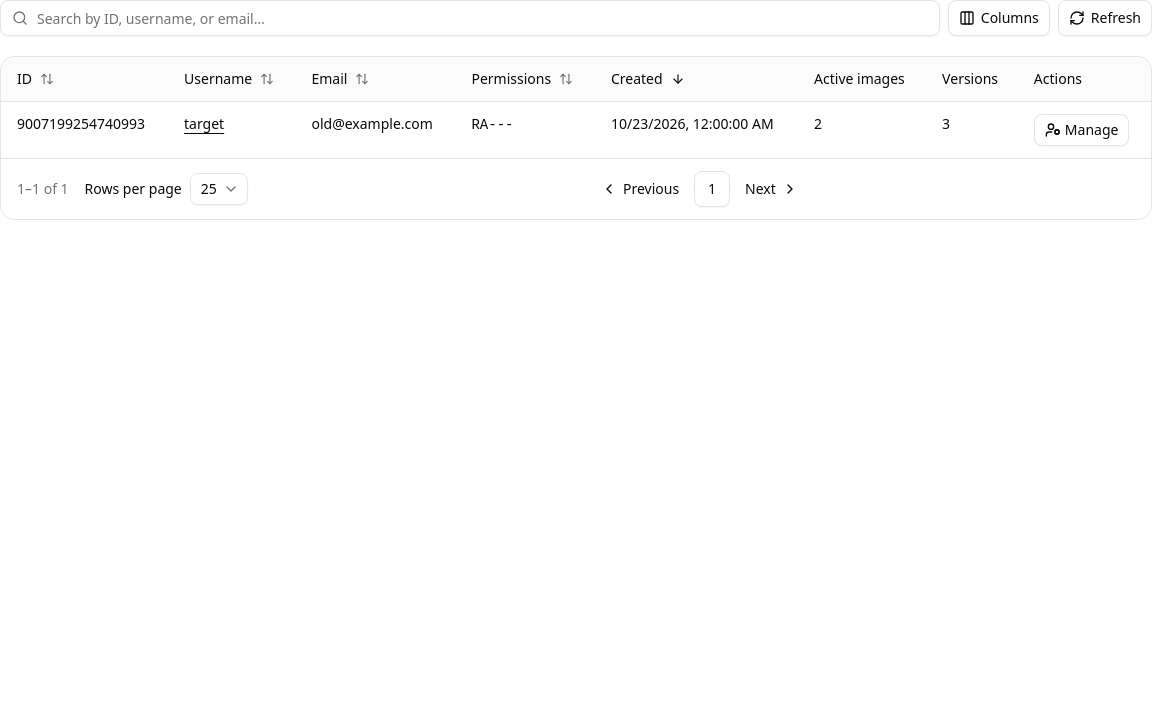
it: lets Root edit another Root account without sending the protected R bit
Step 1. Click the button with aria-label "Manage target" → (1082, 130), box [1034,114,1130,146]
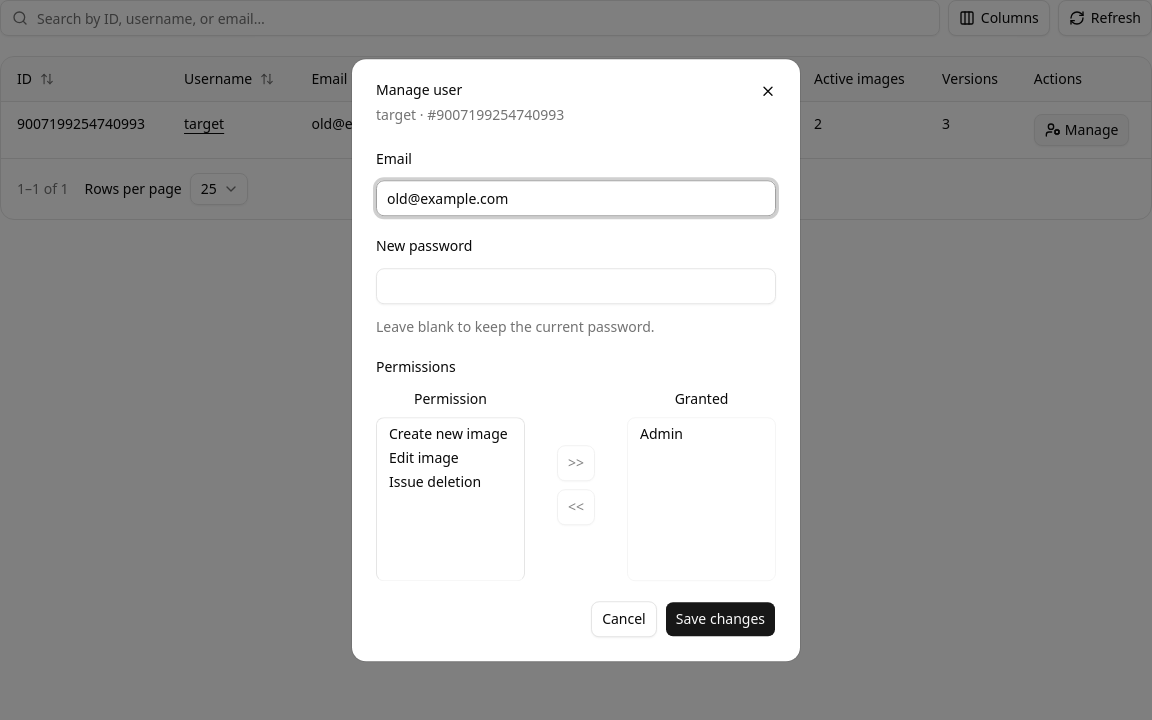
Step 2. Click the button "Admin" → (702, 434), box [632,422,771,446]
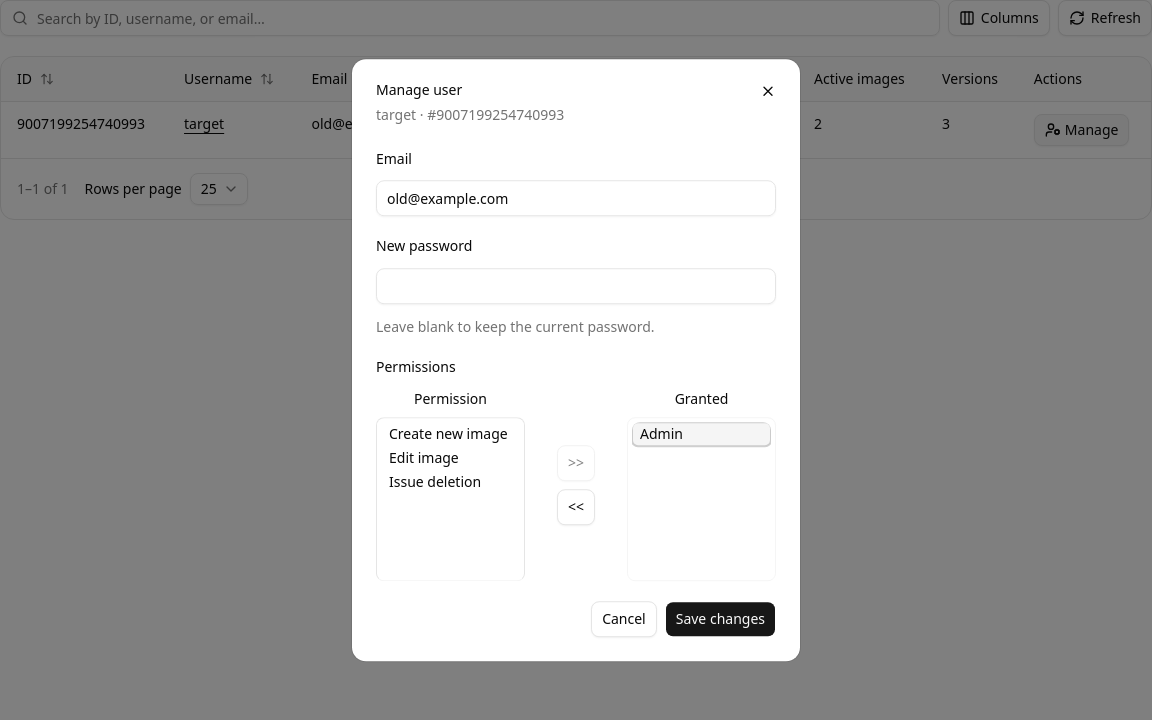
Step 3. Click the button named "Revoke selected permissions" → (576, 507), box [557,489,595,525]
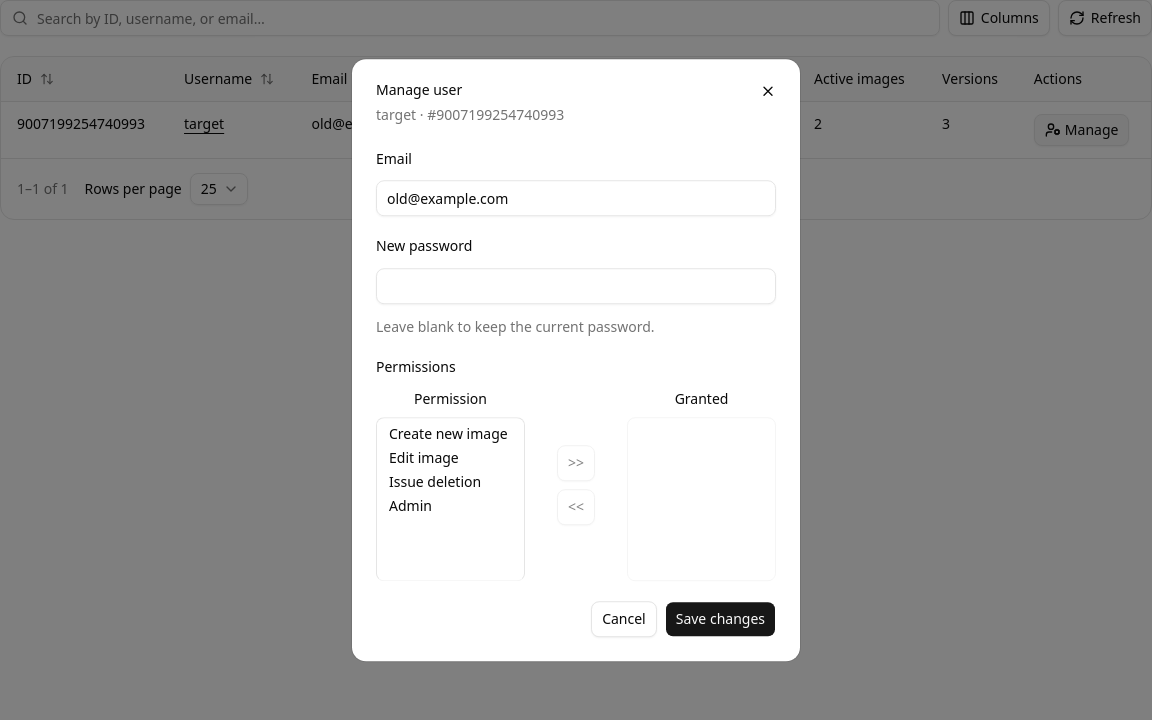
Step 4. Click the button "Save changes" → (720, 619), box [665,601,776,637]
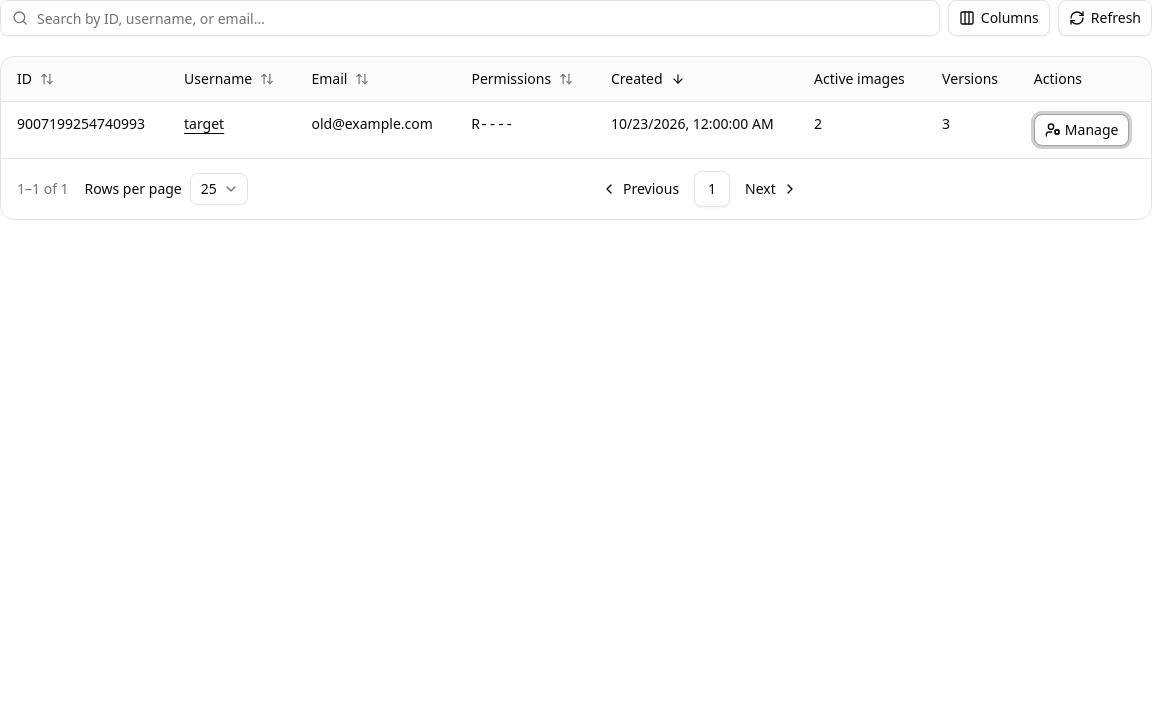
Expected: the dialog is gone
